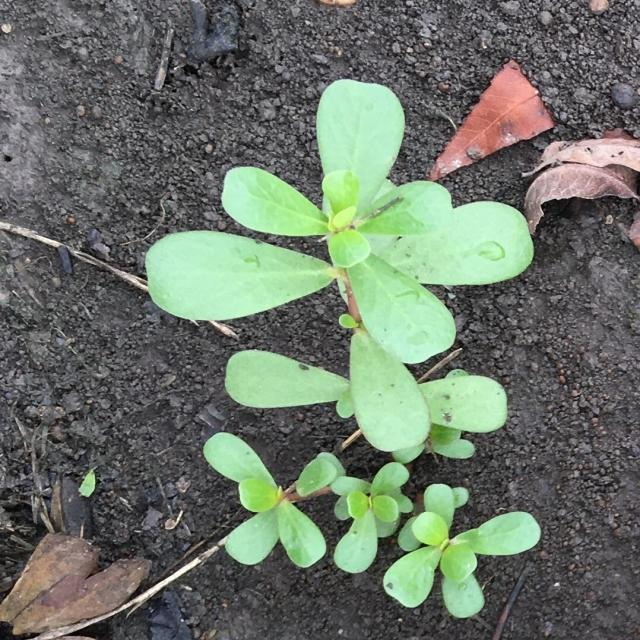Purslane: (145, 79, 535, 464), (203, 432, 541, 619)
